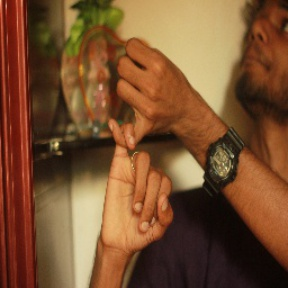S: (95, 33, 189, 246)
